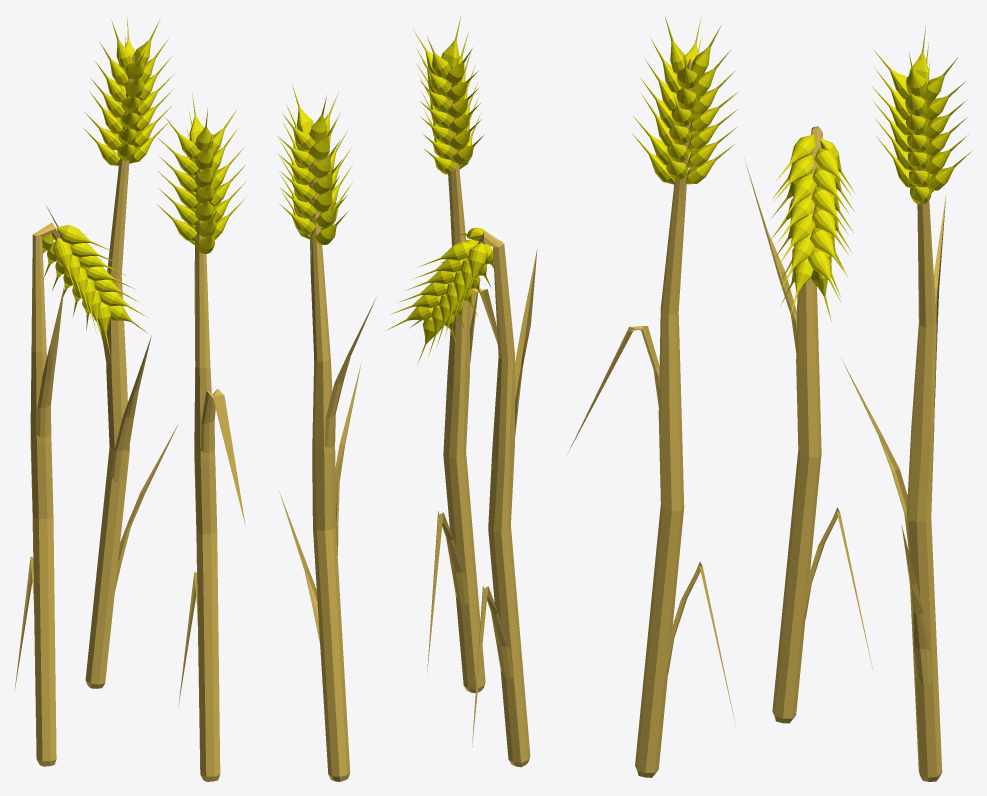
File: wheat2.glb
3 views of the same model, side by side, from view 1: azimuth 30°, elevation 25°; view 2: azimuth 150°, elevation 25°; view 3: azimuth 270°, elevation 25° (orthographic). The views are drawn at different scales.
Visible parts, largest first — view 1: Trunk.001, Trunk.003, Trunk.002, Granes.001, Granes.003, Granes.002, Bent leaf, Leaf.000, Leaf.004, Leaf.002, Bent leaf.001, Bent leaf.002; view 2: Trunk.002, Trunk.003, Trunk.001, Granes.001, Granes.003, Granes.002, Bent leaf.001, Bent leaf.002, Leaf.000, Leaf.003, Leaf.004, Bent leaf (+1 smaller); view 3: Trunk.001, Trunk.002, Trunk.003, Granes.003, Granes.002, Granes.001, Leaf.002, Bent leaf, Bent leaf.002, Bent leaf.001, Leaf.004, Leaf.000.
Boxes of the visible parts, x1,y1,x2,y2 form: Trunk.001: (194, 151, 220, 781); Trunk.003: (30, 222, 61, 766); Trunk.002: (85, 53, 134, 688); Granes.001: (83, 17, 174, 165); Granes.003: (156, 92, 246, 253); Granes.002: (42, 225, 148, 356); Bent leaf: (200, 388, 245, 525); Leaf.000: (37, 285, 64, 437); Leaf.004: (111, 336, 151, 482); Leaf.002: (114, 423, 178, 592); Bent leaf.001: (14, 556, 33, 690); Bent leaf.002: (178, 572, 197, 706); Trunk.002: (308, 123, 350, 781); Trunk.003: (477, 231, 530, 767); Trunk.001: (443, 58, 485, 692); Granes.001: (277, 83, 352, 244); Granes.003: (413, 17, 484, 174); Granes.002: (386, 227, 493, 363); Bent leaf.001: (471, 585, 513, 750); Bent leaf.002: (427, 511, 468, 674); Leaf.000: (515, 249, 537, 436); Leaf.003: (324, 297, 376, 447); Leaf.004: (335, 363, 361, 555); Bent leaf: (470, 287, 497, 363); Trunk.001: (635, 58, 691, 777); Trunk.002: (906, 96, 942, 781); Trunk.003: (772, 126, 822, 723); Granes.003: (632, 15, 738, 184); Granes.002: (771, 134, 854, 321); Granes.001: (872, 26, 971, 204); Leaf.002: (901, 525, 932, 684); Bent leaf: (567, 326, 660, 454); Bent leaf.002: (664, 562, 735, 724); Bent leaf.001: (802, 507, 873, 671); Leaf.004: (841, 358, 908, 551); Leaf.000: (744, 159, 797, 356).
Bounding box in the file's own units: 18.68 × 61.71 × 29.58.
